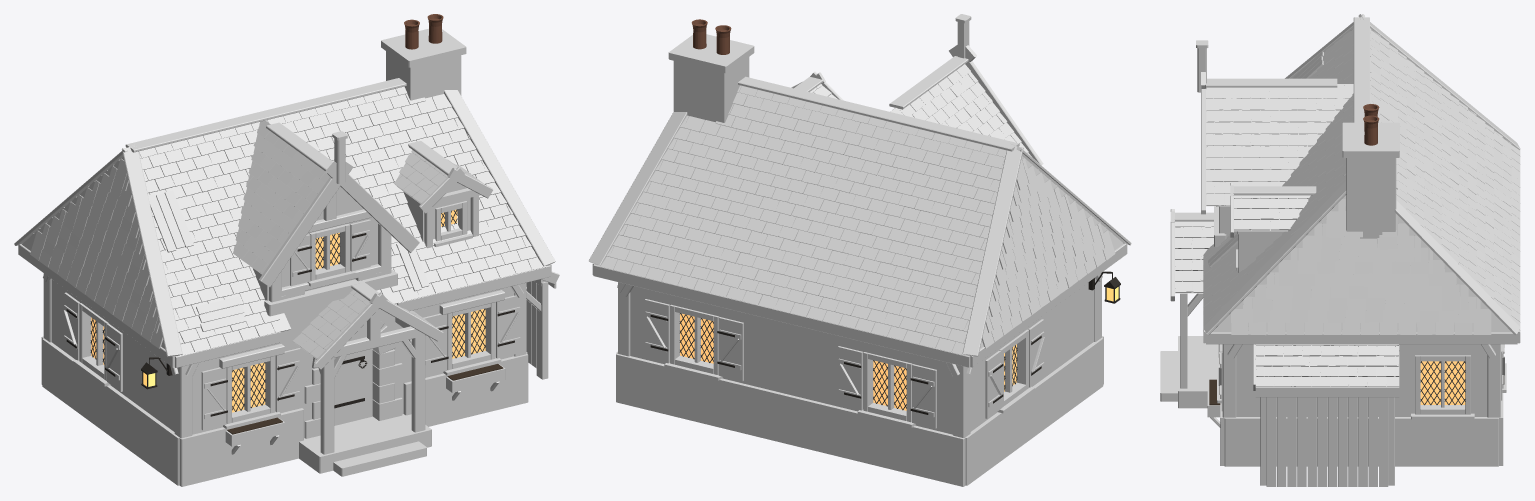
File: SilverbrookCottage5.glb
3 renders of one model, left to right at view 1: azimuth 30°, elevation 25°; view 2: azimuth 150°, elevation 25°; view 3: azimuth 270°, elevation 25°, orthographic.
Visible parts, largest first — view 1: SM_SBCottage5_Roof, SM_SBCottage5_Masonry, SM_SBCottage5_Timber, SM_SBCottage5_Details, SM_SBCottage5_Details_Door1; view 2: SM_SBCottage5_Roof, SM_SBCottage5_Masonry, SM_SBCottage5_Timber, SM_SBCottage5_Details; view 3: SM_SBCottage5_Roof, SM_SBCottage5_Timber, SM_SBCottage5_Masonry, SM_SBCottage5_Details.
Part boxes in pixels (x1=…): SM_SBCottage5_Roof: x1=14, y1=78, x2=555, y2=359; SM_SBCottage5_Masonry: x1=41, y1=28, x2=528, y2=486; SM_SBCottage5_Timber: x1=18, y1=131, x2=559, y2=454; SM_SBCottage5_Details: x1=63, y1=14, x2=520, y2=434; SM_SBCottage5_Details_Door1: x1=334, y1=333, x2=372, y2=425; SM_SBCottage5_Roof: x1=588, y1=56, x2=1131, y2=356; SM_SBCottage5_Masonry: x1=616, y1=34, x2=1103, y2=486; SM_SBCottage5_Timber: x1=592, y1=14, x2=1127, y2=437; SM_SBCottage5_Details: x1=644, y1=19, x2=1120, y2=428; SM_SBCottage5_Roof: x1=1175, y1=14, x2=1520, y2=386; SM_SBCottage5_Timber: x1=1170, y1=40, x2=1520, y2=486; SM_SBCottage5_Masonry: x1=1160, y1=122, x2=1503, y2=466; SM_SBCottage5_Details: x1=1209, y1=104, x2=1504, y2=411.
Size of the model in its own units: 7.85 by 5.98 by 5.78.
